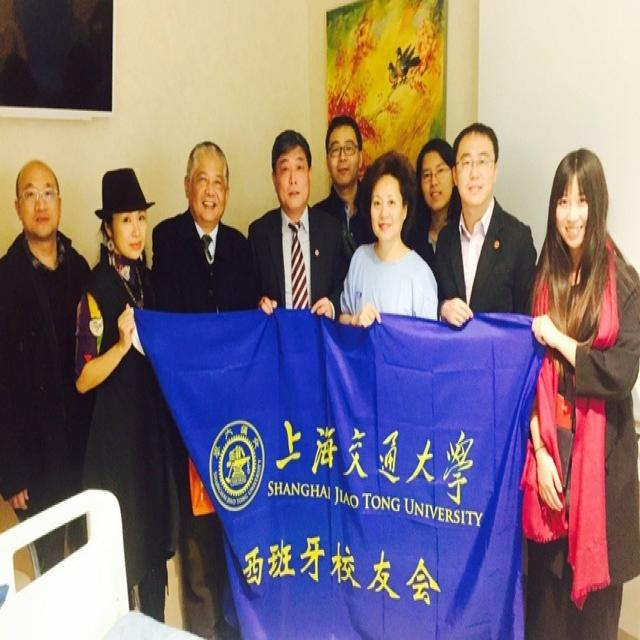body: (513, 142, 639, 638), (149, 136, 260, 640), (69, 162, 184, 625), (0, 159, 94, 575), (431, 120, 538, 334), (242, 129, 351, 324), (338, 150, 440, 331), (306, 111, 380, 325), (405, 133, 465, 274)
